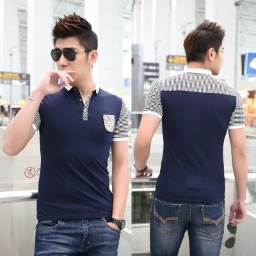face: (51, 14, 100, 86)
